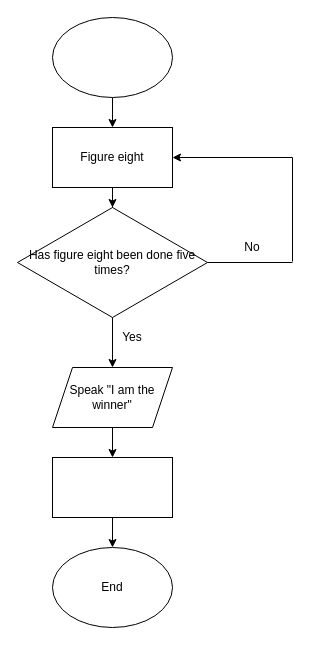
Some shapes in this 318 by 645 pixel diagram are drawn without their labels. Here are the shapes that lost their labels. From the top down, the centre of each, then its label:
At point (112, 57): "Start".
At point (112, 487): "Set light to multicolored for 5 seconds".
